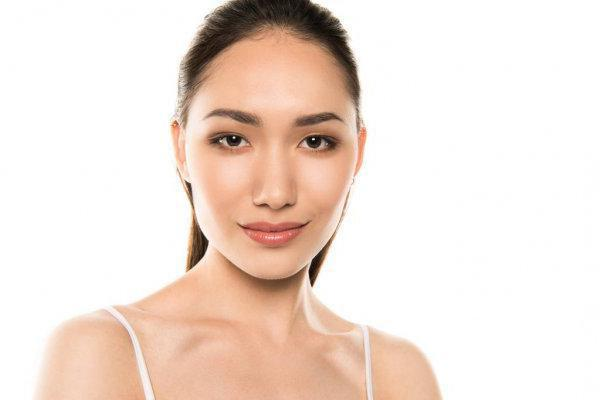Sober: (200, 45, 349, 272)
